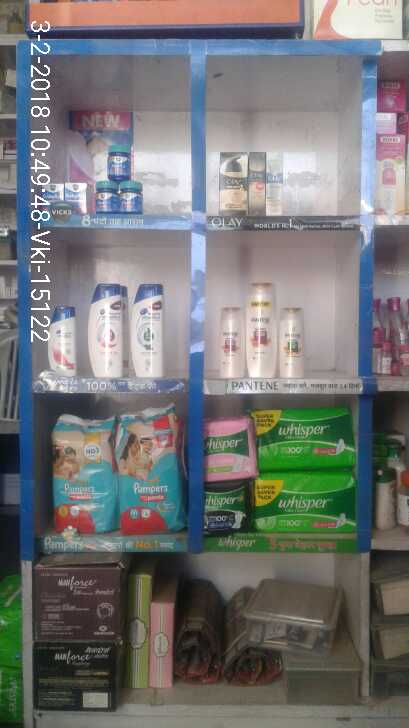vicks: (40, 137, 150, 218)
